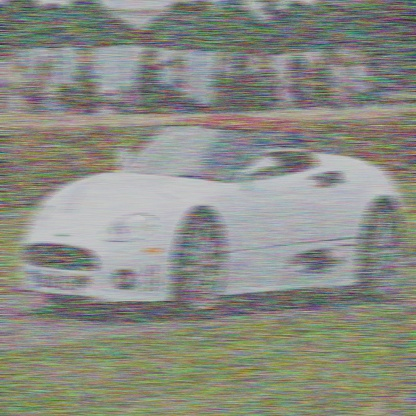Vehicle: (18, 111, 410, 324)
